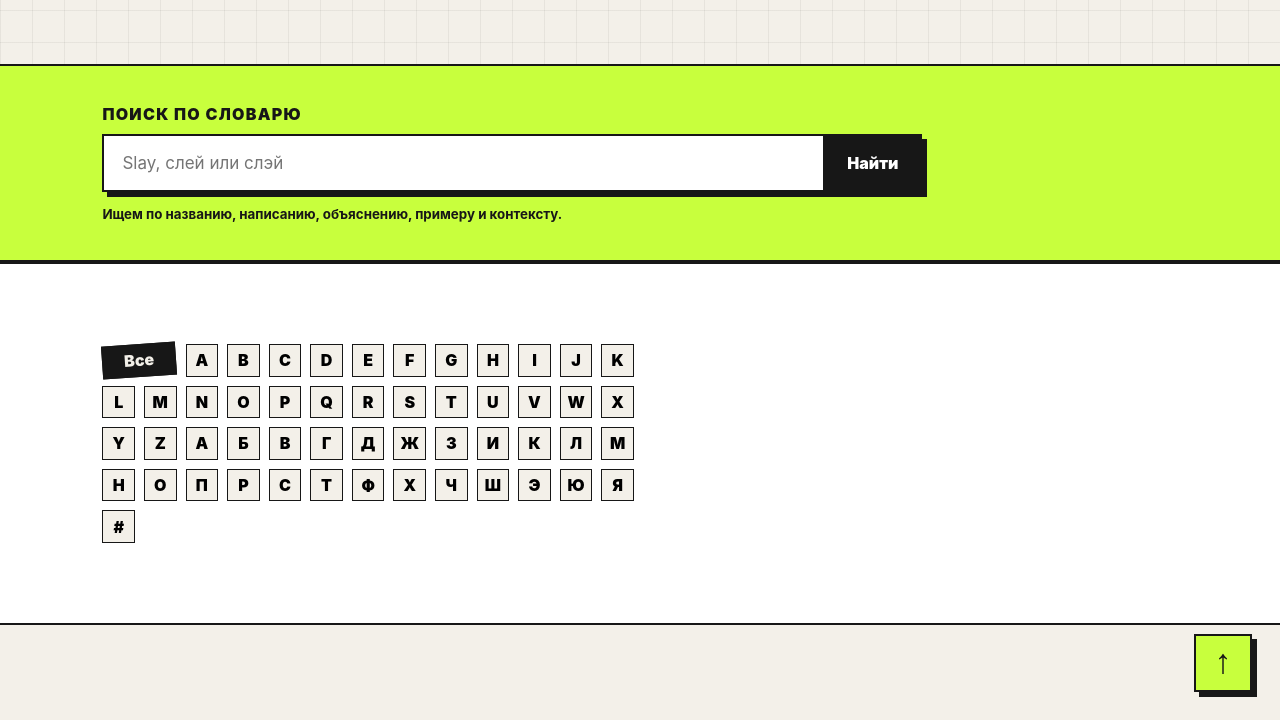
Test: App › uses canonical bilingual titles for alphabet sections, not search aliases
(page scrolled)
Click the button "C".
click(285, 360)  # box [269,344,301,376]
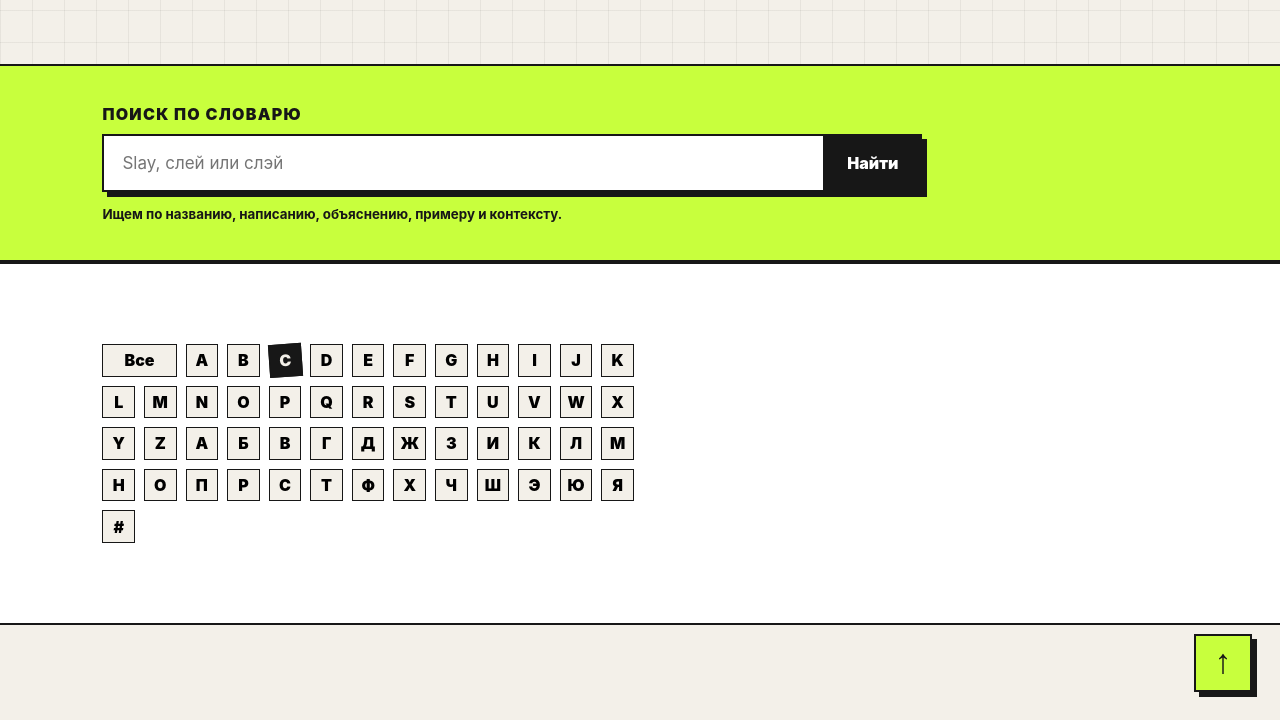
Click the button "N".
click(202, 402)  # box [186,386,218,418]
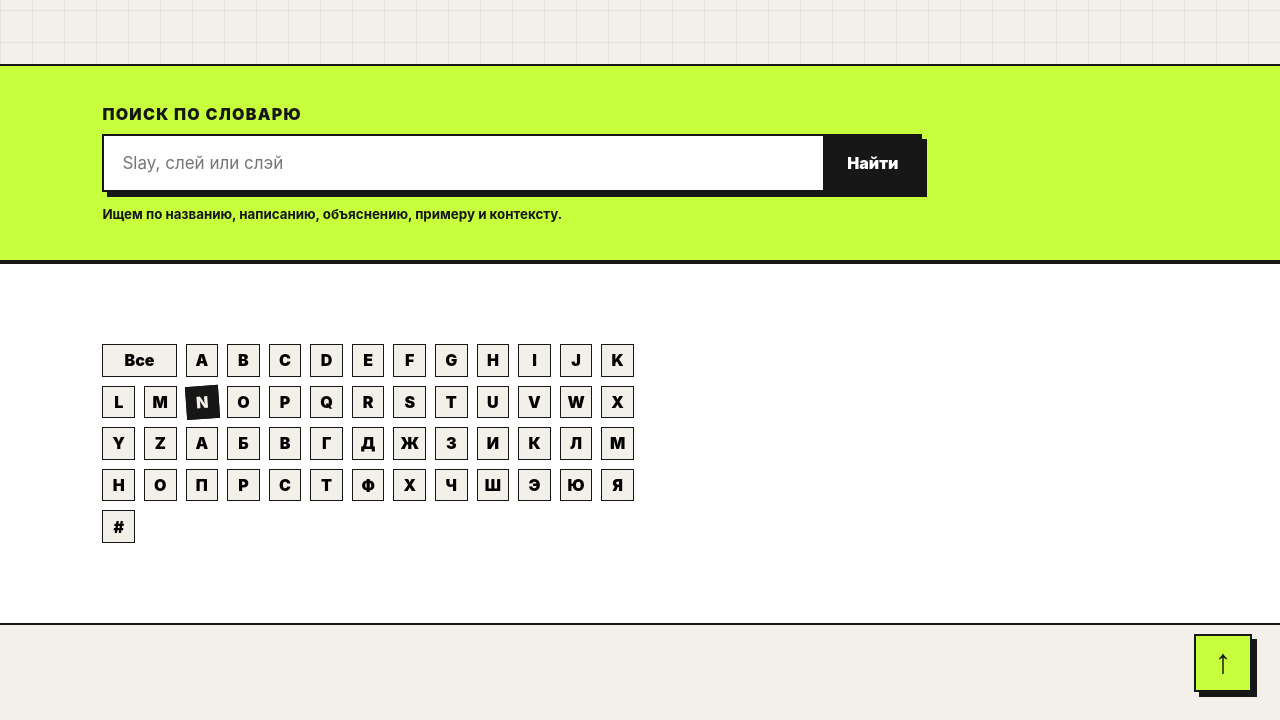
Click the button "Н".
click(119, 485)  # box [102,469,135,501]
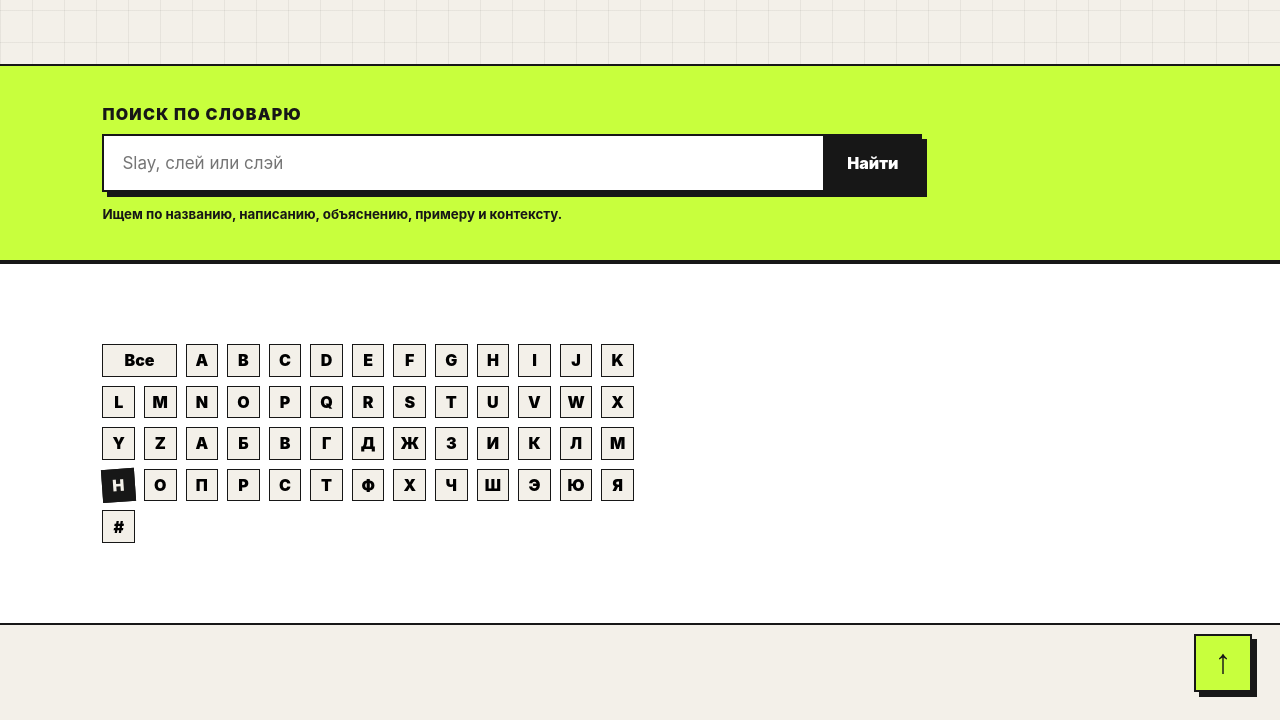
Expected: the heading "NPC" is not shown
Click the button "Э".
click(534, 485)  # box [518,469,551,501]
(page scrolled)
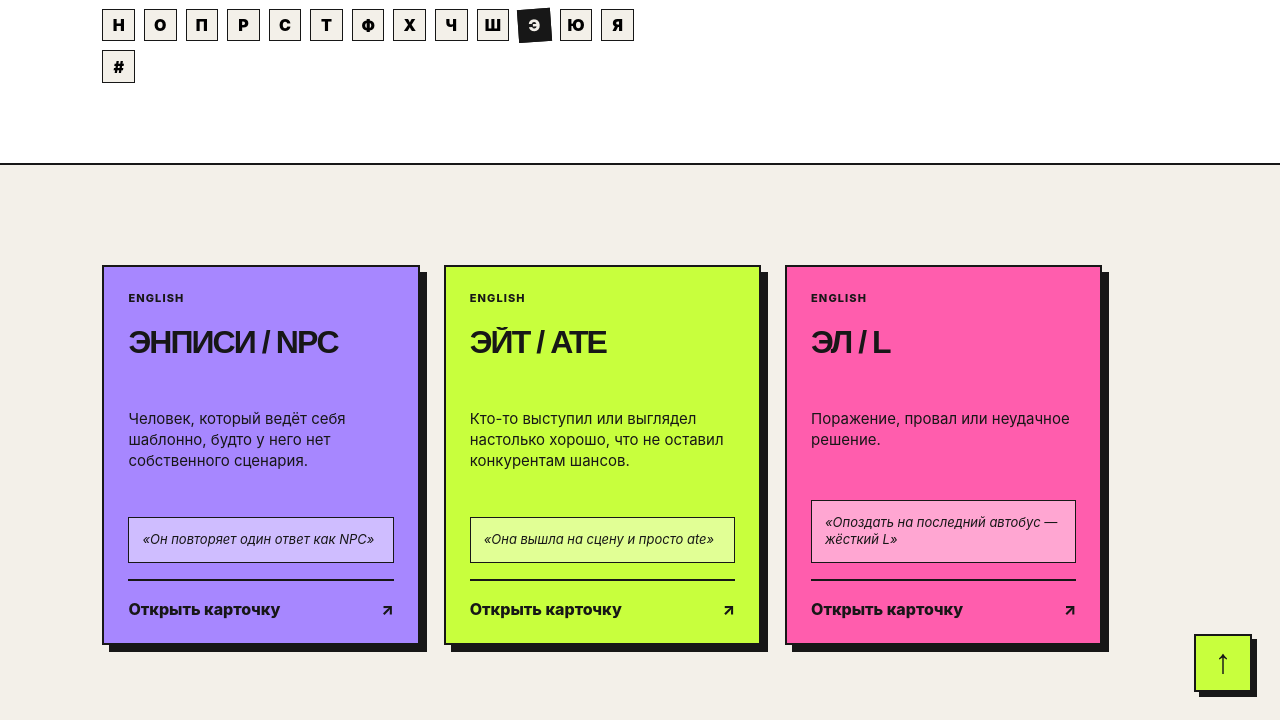
Expected: the heading "Энписи / NPC" is shown, [128,324,338,360]
Expected: the heading "Эл / L" is shown, [811,324,890,360]
